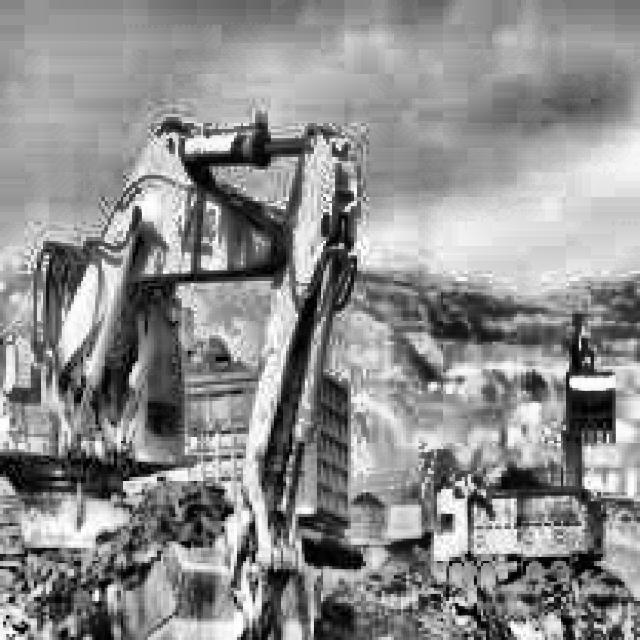dump_truck: (434, 476, 603, 586)
excavator: (0, 55, 363, 640), (548, 312, 615, 466), (385, 438, 443, 562)
